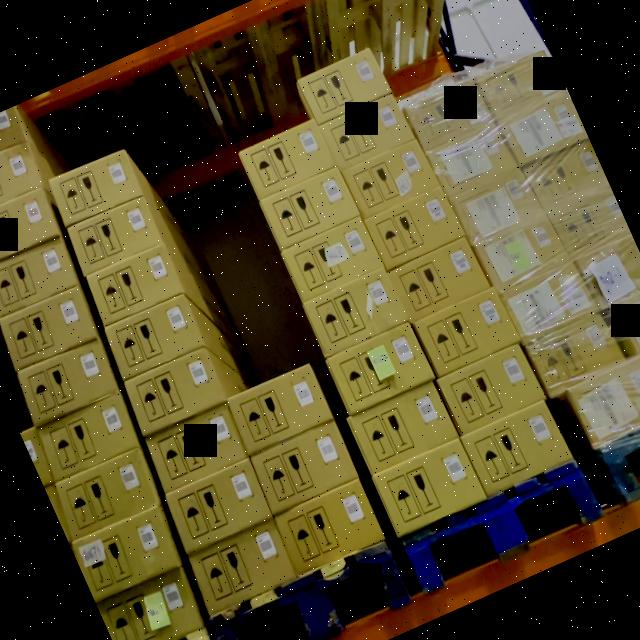box: (372, 438, 488, 536), (72, 504, 185, 602), (188, 519, 300, 615), (462, 399, 572, 496), (275, 479, 386, 575), (251, 420, 361, 515), (326, 322, 436, 417), (349, 381, 460, 475), (166, 458, 275, 552), (228, 362, 336, 455), (438, 343, 545, 435), (34, 392, 142, 482), (414, 287, 520, 378), (302, 266, 408, 356), (145, 404, 250, 494), (53, 450, 160, 538), (15, 338, 120, 427), (388, 236, 492, 324), (236, 116, 340, 202), (122, 348, 225, 433), (0, 286, 101, 372), (104, 297, 206, 381), (365, 184, 464, 270), (528, 307, 627, 393), (284, 216, 384, 301), (86, 244, 184, 327), (262, 168, 360, 250), (66, 195, 165, 276), (343, 138, 439, 220), (97, 569, 205, 640), (568, 340, 640, 446), (502, 260, 596, 340), (49, 148, 144, 226), (476, 212, 570, 290), (320, 94, 413, 172), (298, 48, 392, 125), (406, 79, 496, 157), (0, 237, 83, 319), (501, 91, 589, 168), (453, 168, 542, 244), (523, 140, 610, 217), (480, 48, 567, 122), (431, 127, 518, 200), (552, 189, 631, 259), (0, 186, 60, 266), (577, 236, 640, 309), (0, 139, 43, 216), (20, 428, 58, 488), (608, 288, 640, 357), (0, 108, 25, 170)
